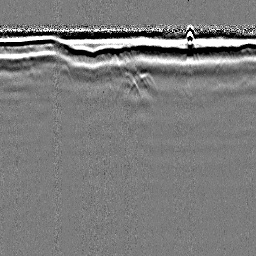cavity: (117, 69, 141, 99)
